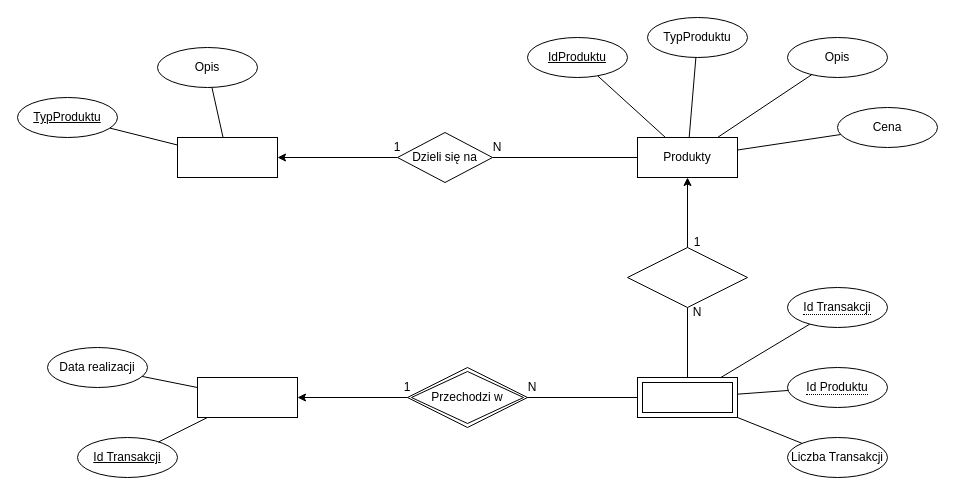
Image size: 955x495. Some labels were removed from this diagram. Here are the shapes that lost their labels. From the top down, the centre of each, then its label:
At point 227,157: "Typ Produktu".
At point 687,277: "Pośredniczy".
At point 247,397: "Transakcje".
At point 687,397: "Przedmiot Transakcji".
